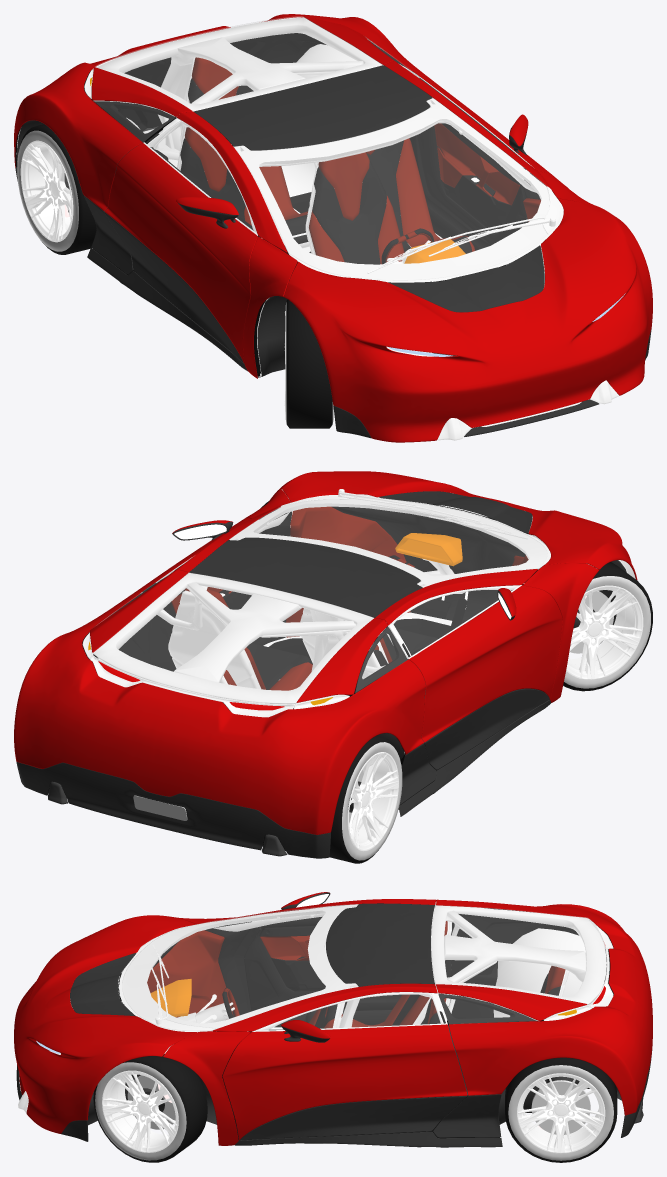
The model's file is motor-coupe.glb.
The picture shows the model from 3 angles, top to bottom: view 1: azimuth 30°, elevation 25°; view 2: azimuth 150°, elevation 25°; view 3: azimuth 270°, elevation 25°; orthographic projection. The views are drawn at different scales.
Parts seen in each view (by area): view 1: BodyRearPanelsColor1, BodyWindshield, BodyWindshieldGasket, BodyRoofPanel, InteriorDashSides, InteriorDashMid, InteriorSeatsColor2, object 21, WheelFrontLRim, BodyUnderside, InteriorMid, InteriorSteeringDash; view 2: BodyRearPanelsColor1, BodyWindshield, BodyRoofPanel, BodyWindshieldGasket, InteriorDashMid, WheelFrontLRim, object 21, InteriorDashSides, InteriorSeatsColor2, InteriorFloormats, InteriorSteeringDash, BodyUnderside (+3 smaller); view 3: BodyRearPanelsColor1, BodyWindshield, BodyRoofPanel, BodyWindshieldGasket, object 21, WheelFrontLRim, InteriorDashMid, InteriorDashSides, InteriorMid, WheelFrontLBrakeDisc, BodyUnderside, InteriorSeatsColor2 (+1 smaller).
Part boxes in pixels (x1,y1,x2,y2): BodyRearPanelsColor1: (14,14,652,442); BodyWindshield: (94,16,549,280); BodyWindshieldGasket: (16,17,618,440); BodyRoofPanel: (15,65,651,438); InteriorDashSides: (185,57,540,264); InteriorDashMid: (15,33,526,281); InteriorSeatsColor2: (180,78,472,264); object 21: (17,124,333,428); WheelFrontLRim: (20,140,285,414); BodyUnderside: (16,78,526,377); InteriorMid: (93,173,557,376); InteriorSteeringDash: (404,239,465,263); BodyRearPanelsColor1: (14,471,637,834); BodyWindshield: (92,497,547,703); BodyRoofPanel: (16,491,550,858); BodyWindshieldGasket: (82,489,635,753); InteriorDashMid: (48,502,528,850); WheelFrontLRim: (347,585,643,851); object 21: (260,501,652,863); InteriorDashSides: (171,506,528,690); InteriorSeatsColor2: (246,628,437,689); InteriorFloormats: (269,598,467,659); InteriorSteeringDash: (395,533,462,566); BodyUnderside: (48,560,626,856); BodyRearPanelsColor1: (14,892,652,1145); BodyWindshield: (122,904,606,1030); BodyRoofPanel: (16,892,652,1147); BodyWindshieldGasket: (18,901,613,1143); object 21: (93,1054,617,1162); WheelFrontLRim: (102,1070,605,1153); InteriorDashMid: (118,908,613,1030); InteriorDashSides: (147,921,565,1028); InteriorMid: (205,921,499,1143); WheelFrontLBrakeDisc: (127,1075,590,1134); BodyUnderside: (39,927,643,1125); InteriorSeatsColor2: (304,973,560,1028).
Bounding box in the file's own units: 2.54 × 1.15 × 4.36.
23 materials, 6 textured.
